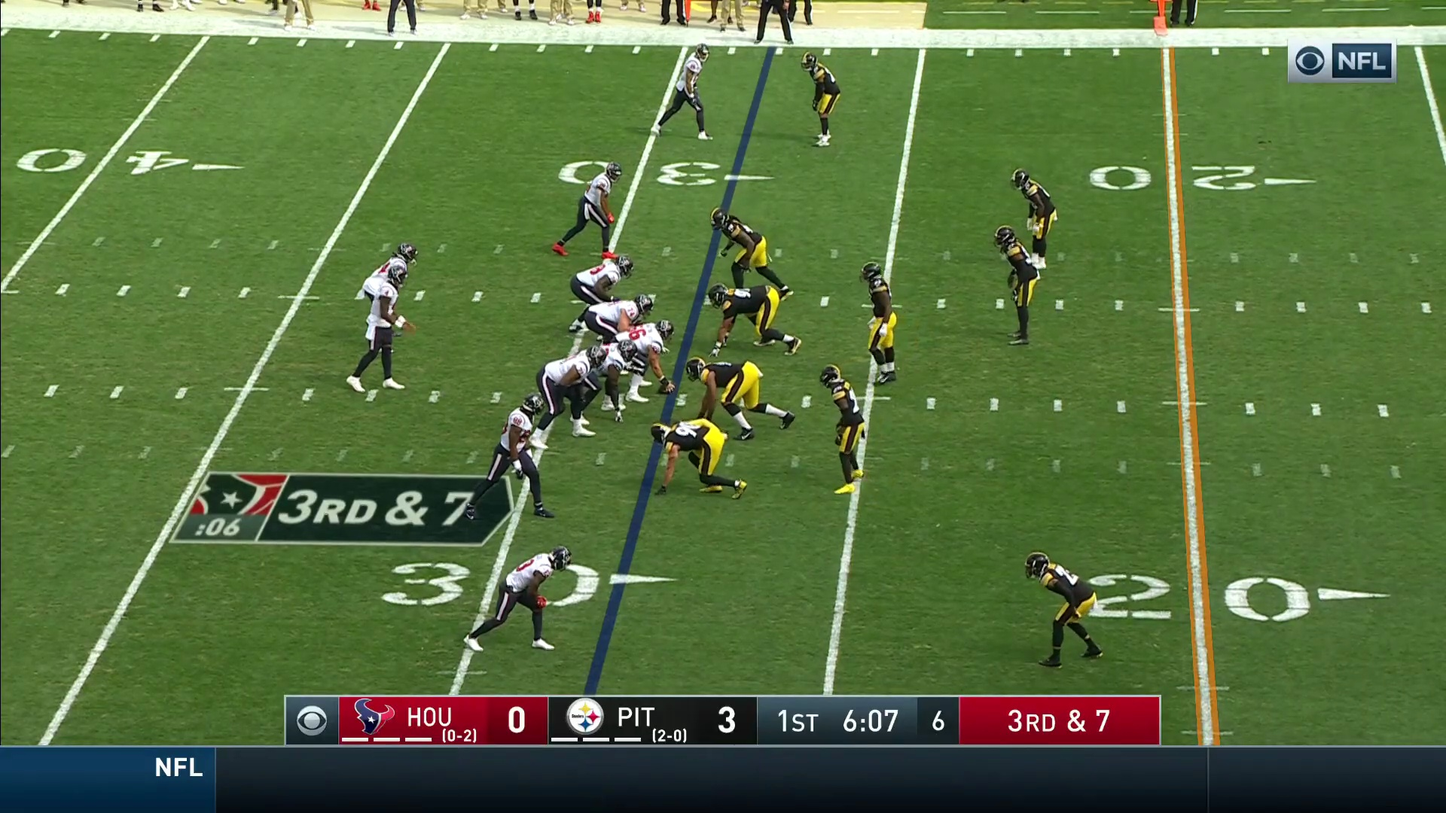Player: (360, 243, 416, 335), (538, 349, 598, 433), (659, 420, 726, 492), (707, 283, 783, 344), (571, 252, 631, 325), (863, 260, 897, 383), (615, 322, 665, 391), (584, 295, 653, 343)
